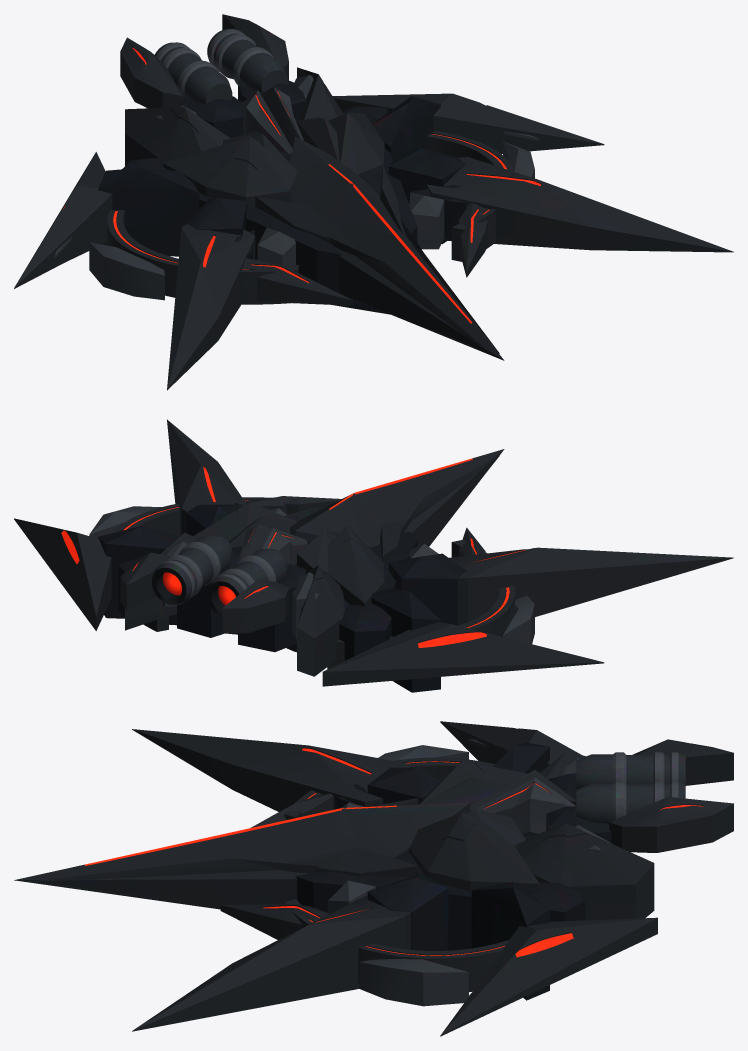
Rendered from s1_elite.glb.
3 renders of one model, top to bottom at view 1: azimuth 30°, elevation 25°; view 2: azimuth 150°, elevation 25°; view 3: azimuth 270°, elevation 25°, orthographic. The views are drawn at different scales.
Parts seen in each view (by area): view 1: S1_EliteFighter_LOD1; view 2: S1_EliteFighter_LOD1; view 3: S1_EliteFighter_LOD1.
Part boxes in pixels (x1=…): S1_EliteFighter_LOD1: x1=14, y1=14, x2=733, y2=390; S1_EliteFighter_LOD1: x1=14, y1=419, x2=733, y2=692; S1_EliteFighter_LOD1: x1=14, y1=721, x2=733, y2=1036.
Bounding box in the file's own units: 12.16 × 2.74 × 11.77.
Materials: 1 (1 with a texture image).
